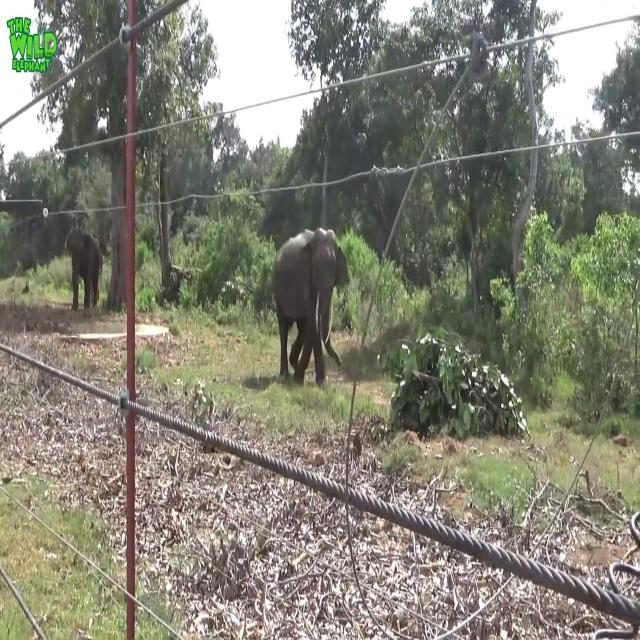Elephant: (272, 226, 349, 388), (64, 228, 103, 317)
